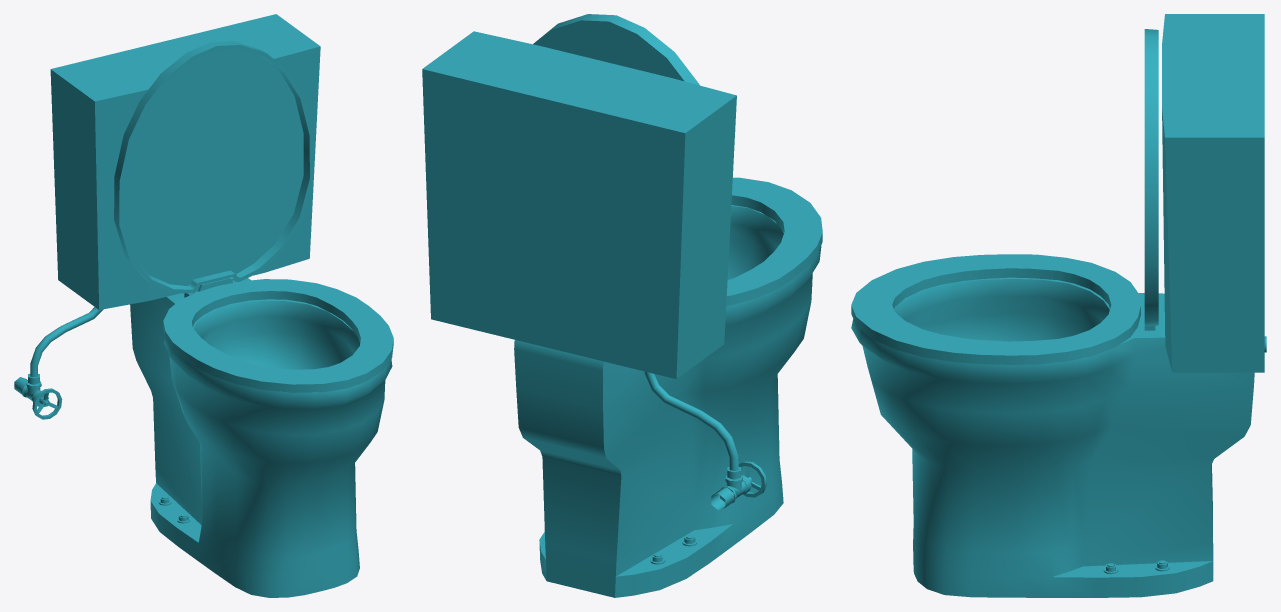
The model's file is Toilet_A_Snaps004.FBX.
3 renders of one model, left to right at view 1: azimuth 30°, elevation 25°; view 2: azimuth 150°, elevation 25°; view 3: azimuth 270°, elevation 25°, orthographic. The views are drawn at different scales.
Parts seen in each view (by area): view 1: Geometry_Toilet_A_LOD00; view 2: Geometry_Toilet_A_LOD00; view 3: Geometry_Toilet_A_LOD00.
Part boxes in pixels (bbox=[...]): Geometry_Toilet_A_LOD00: bbox=[14, 14, 393, 597]; Geometry_Toilet_A_LOD00: bbox=[422, 14, 822, 597]; Geometry_Toilet_A_LOD00: bbox=[851, 14, 1266, 597].
Size of what is drawn, in the model's own units: 74.39 by 124 by 88.56.
